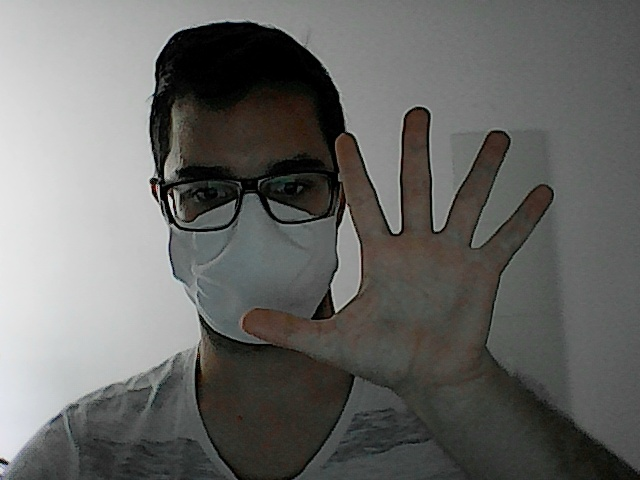jump: (238, 101, 560, 395)
